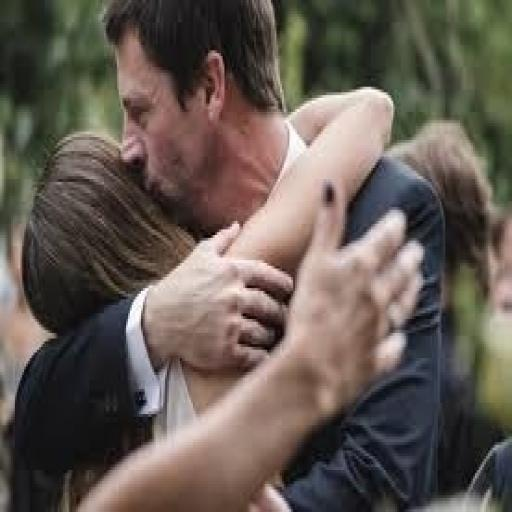hugging: (9, 0, 449, 509)
